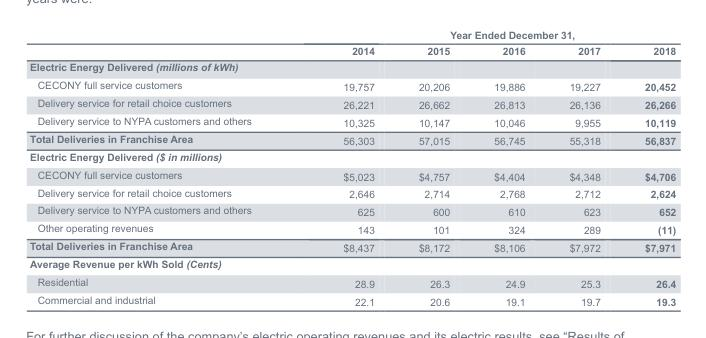table: (29, 28, 675, 306)
table column: (29, 28, 296, 306), (296, 28, 395, 306), (395, 28, 471, 306), (471, 28, 546, 306), (546, 28, 621, 306), (621, 28, 675, 306)
table column header: (29, 28, 675, 58)
table projected row header: (29, 58, 675, 75), (29, 148, 675, 165), (29, 255, 675, 272)
table row: (29, 75, 675, 94), (29, 165, 675, 184), (29, 272, 675, 291), (29, 94, 675, 112), (29, 112, 675, 130), (29, 130, 675, 148), (29, 201, 675, 219), (29, 219, 675, 237), (29, 237, 675, 255), (29, 58, 675, 75), (29, 148, 675, 165), (29, 184, 675, 201), (29, 255, 675, 272), (29, 42, 675, 58), (29, 291, 675, 306), (29, 28, 675, 42)
table spanning cell: (296, 28, 675, 42)
